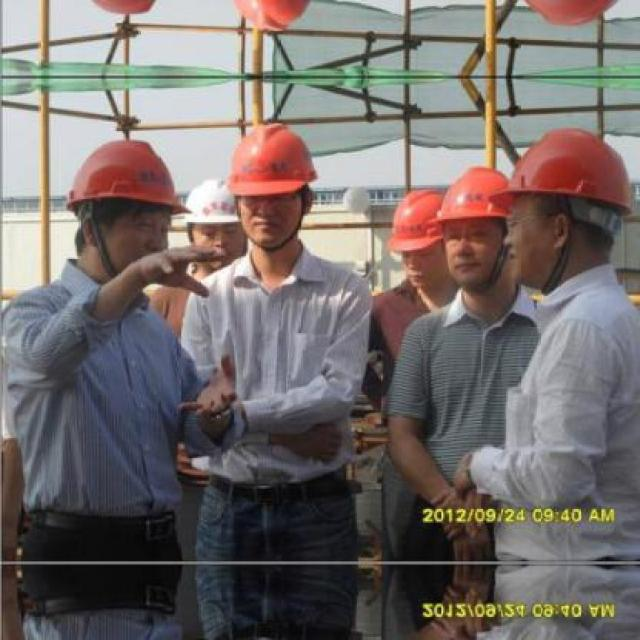helmet: (513, 124, 622, 288), (64, 130, 178, 286), (227, 121, 324, 251), (443, 164, 523, 294), (387, 188, 456, 288), (186, 174, 240, 266), (226, 0, 325, 34)
